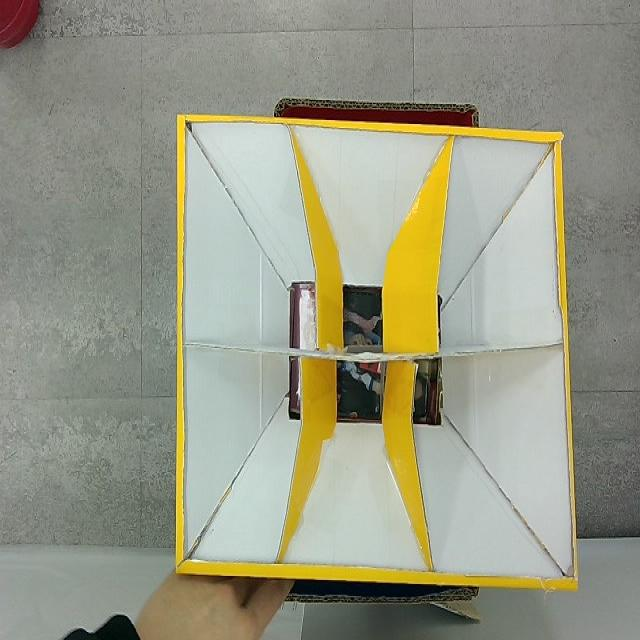box: (174, 99, 579, 592)
